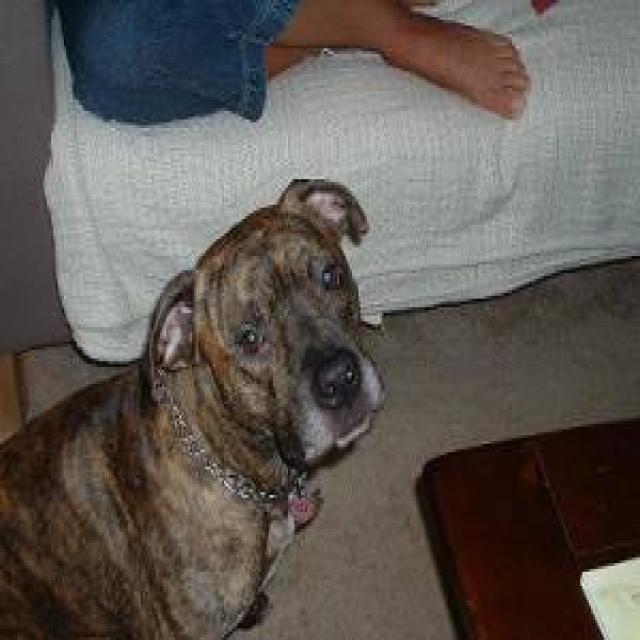dog-american_pit_bull_terrier: (2, 154, 393, 634)
